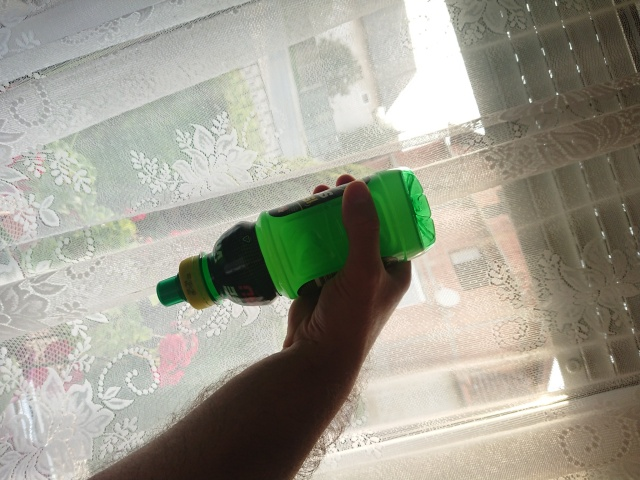Vindi Iso Sport Lemon-Grapefruit 500mL: (153, 167, 439, 312)
